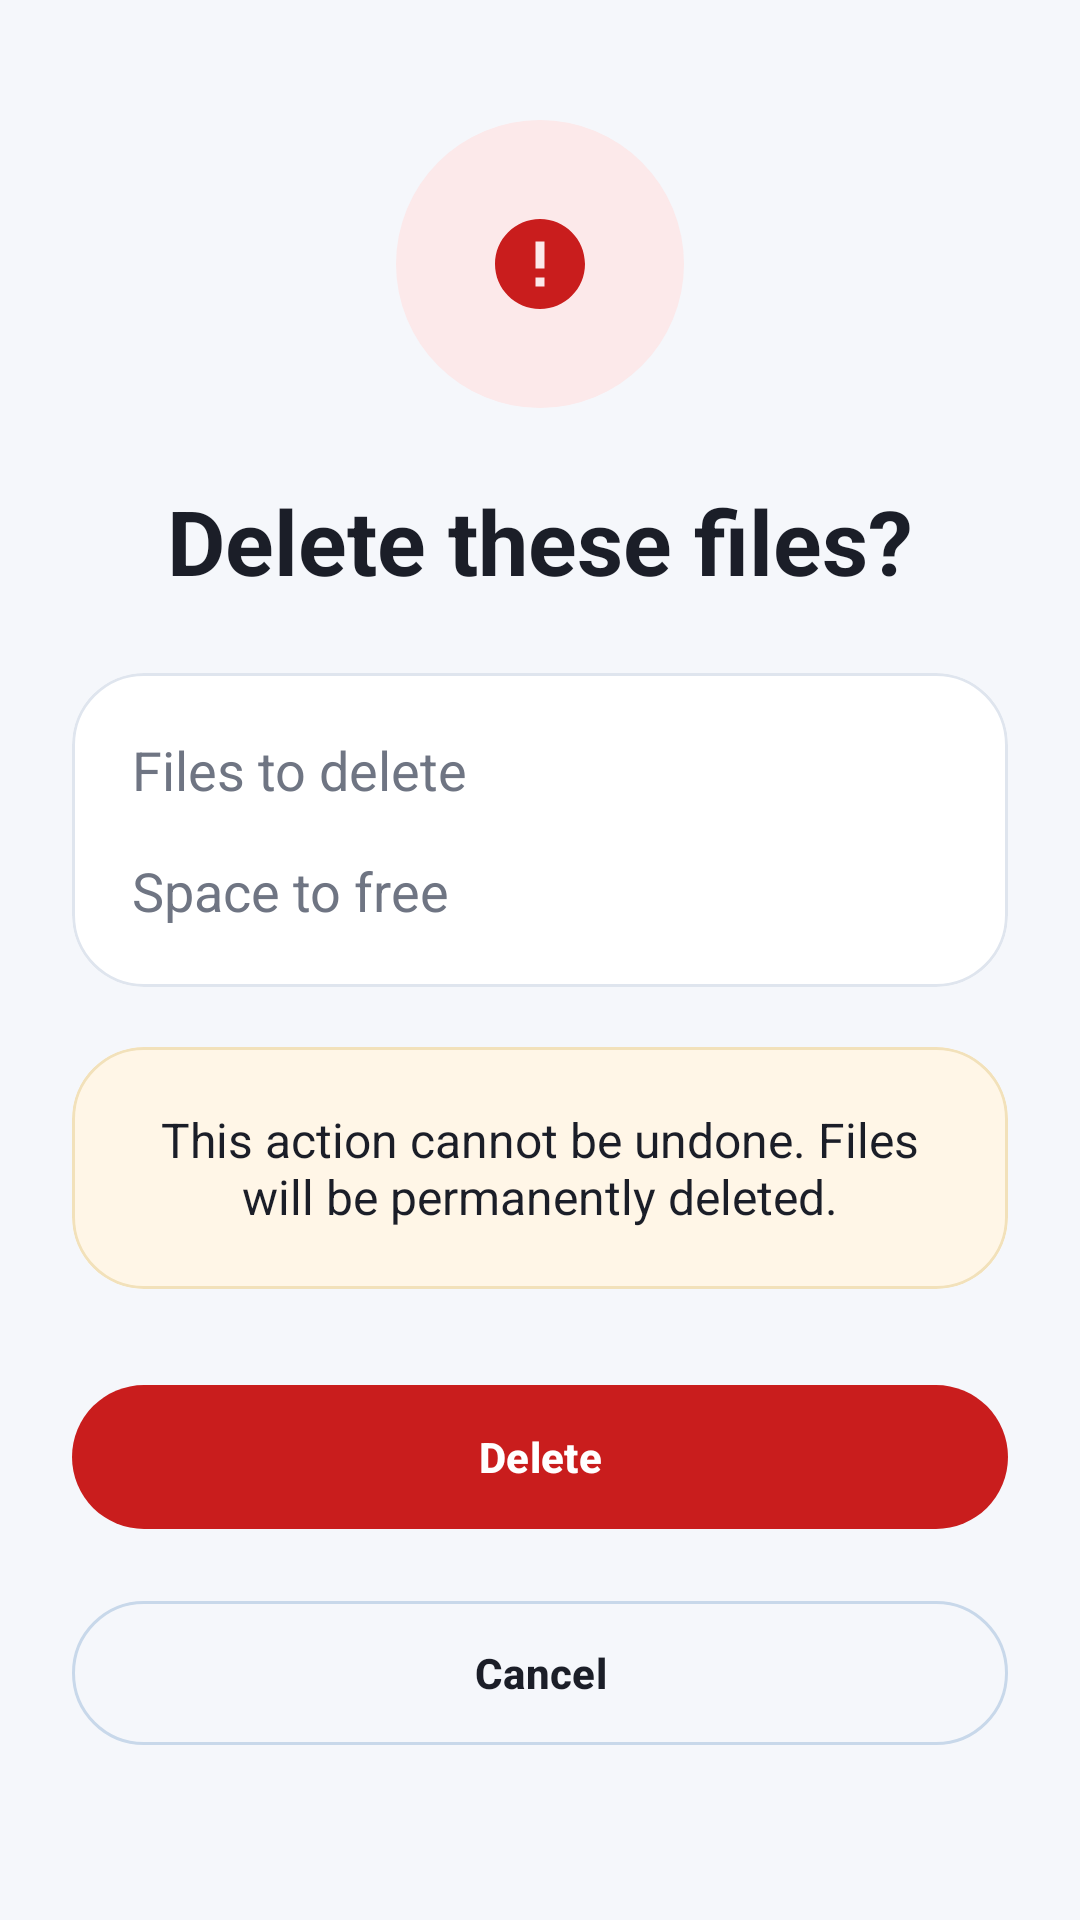

Locate icon controls on the screen. Image size 1080x1920, boxes as BBox(x1, y1, x2, y2).
warning: BBox(495, 219, 585, 309)
